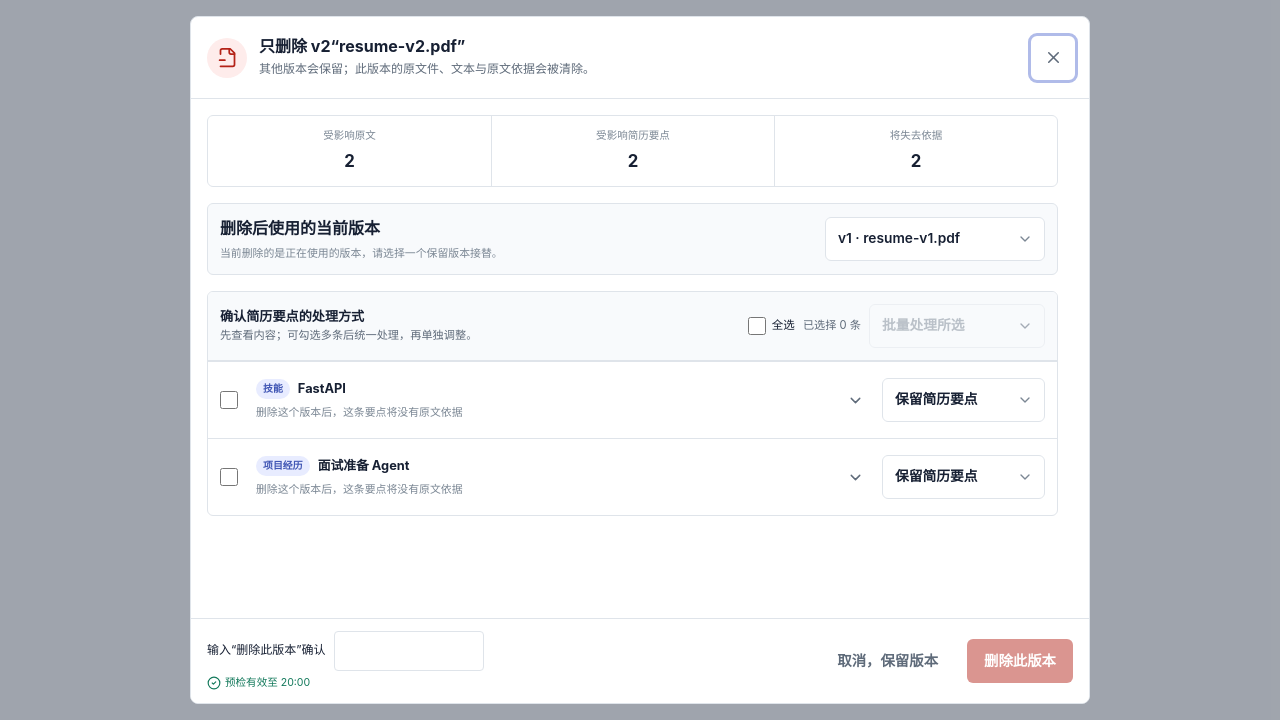
Test: VersionDeletionImpactDialog › selects affected claims for batch handling and reveals their details
Click the checkbox named "全选受影响简历要点": (757, 326) [748,317,766,335]
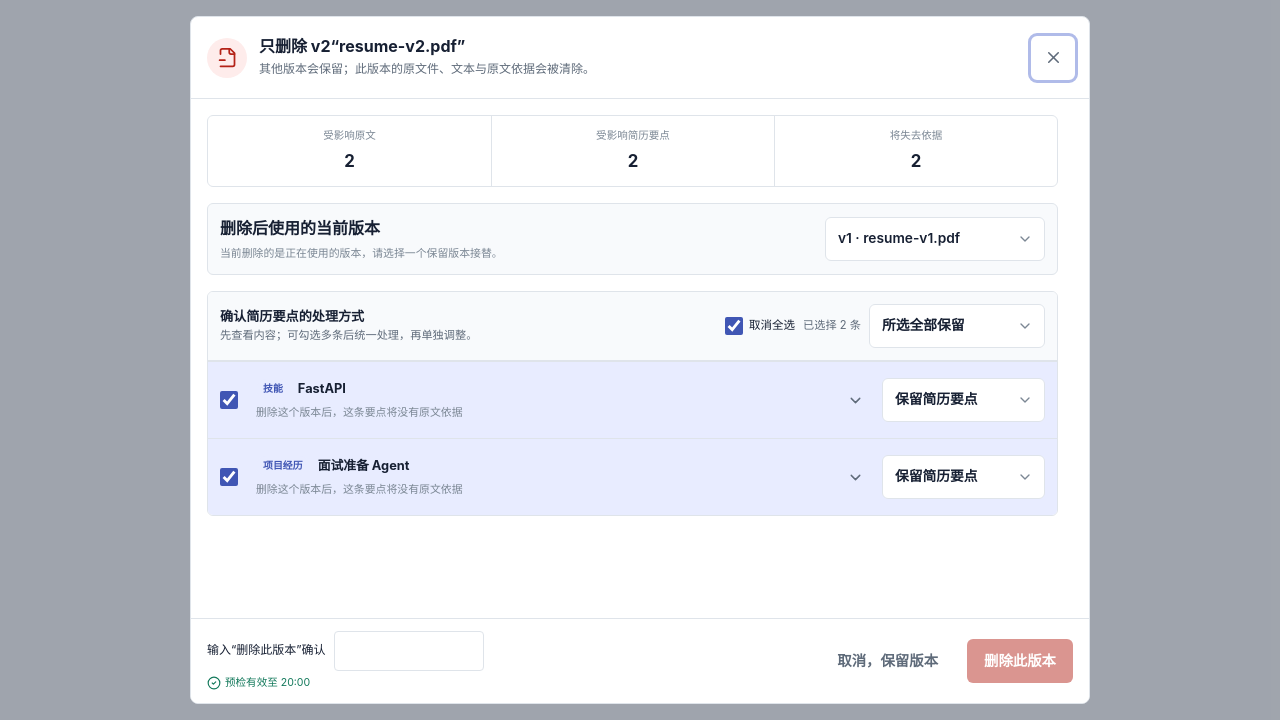
Now the text "已选择 2 条" is shown, box [803,317,861,335]
Select "删除所选可删除要点" in the dropdown named "批量更改所选处理方式": (957, 326) [869,304,1045,348]
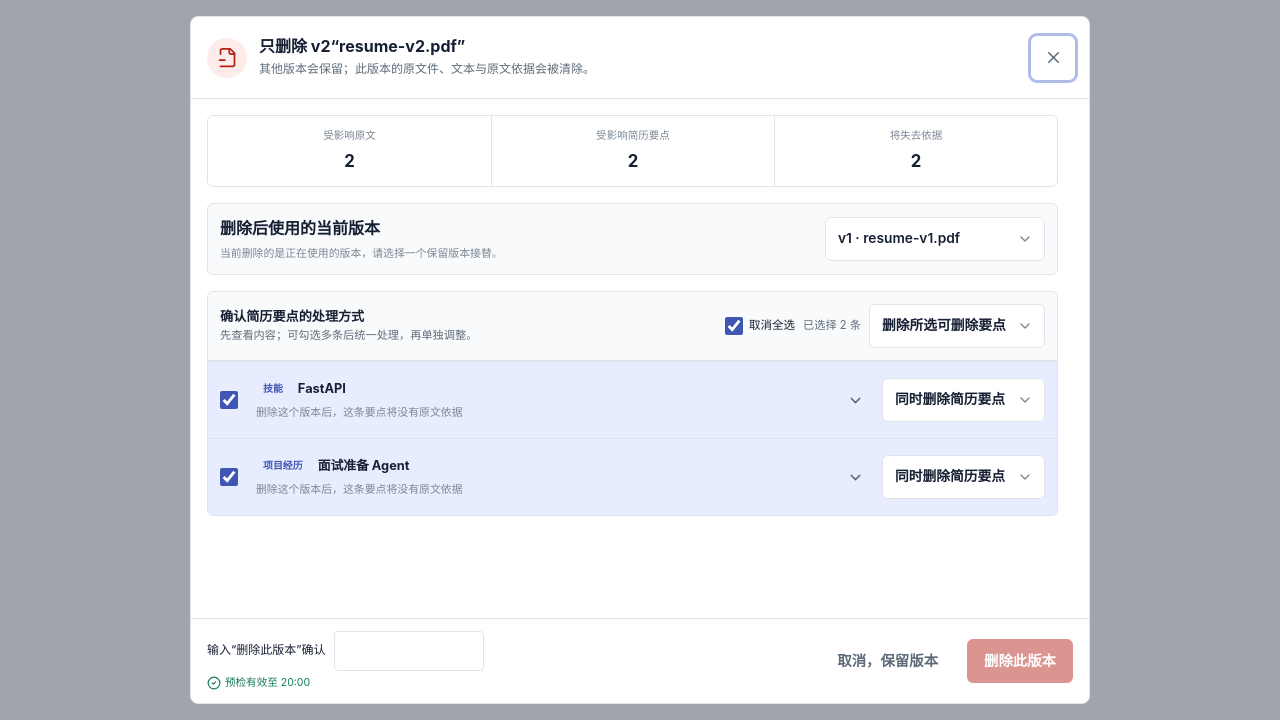
Now the dropdown named "FastAPI 的处理方式" shows "同时删除简历要点", box [882,378,1045,422]
Now the dropdown named "面试准备 Agent 的处理方式" shows "同时删除简历要点", box [882,455,1045,499]
Click the button with aria-label "查看 面试准备 Agent 详情": (283, 466) [250,455,870,499]
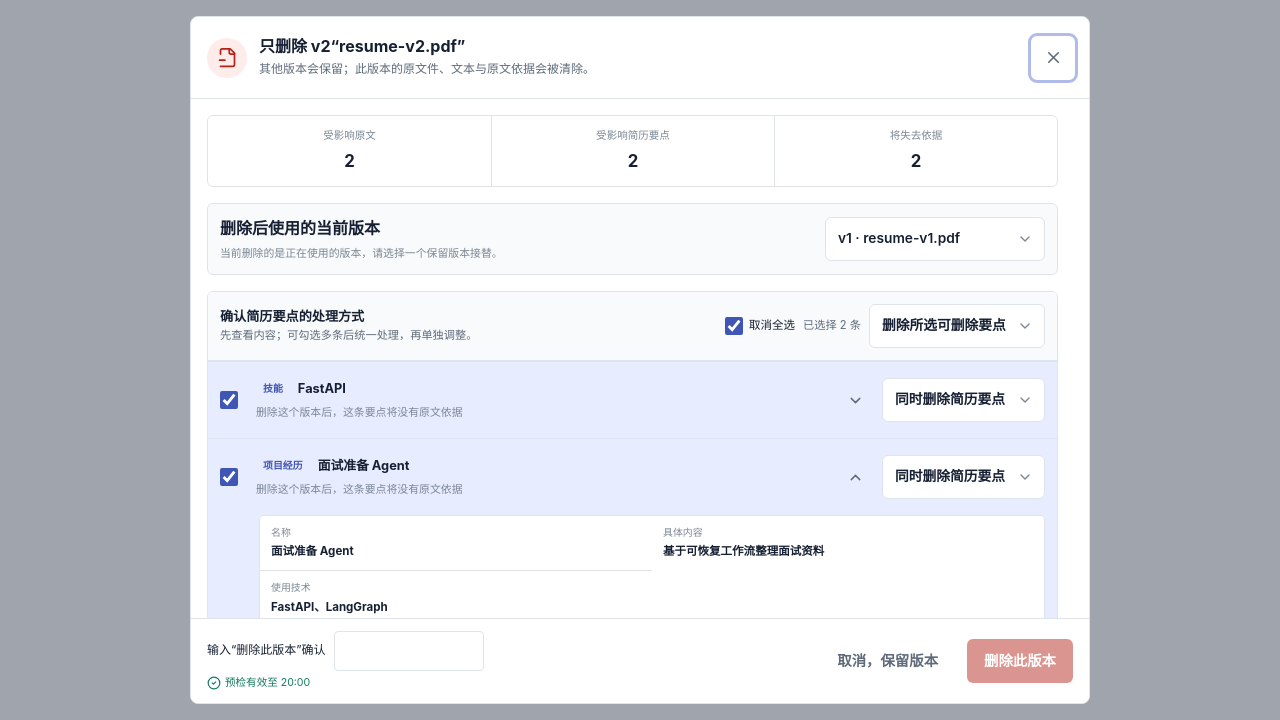
Now the text "基于可恢复工作流整理面试资料" is shown, box [663,544,824,558]
Now the text "FastAPI、LangGraph" is shown, box [271,600,388,614]
